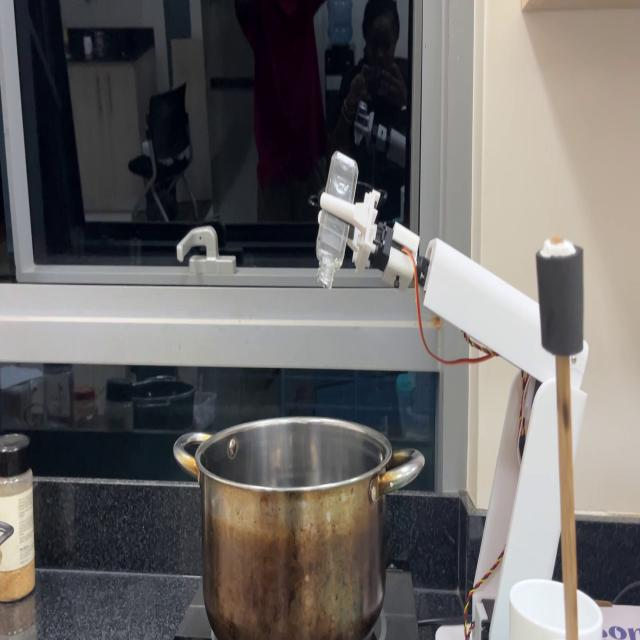cooking_pot: (179, 412, 422, 640)
spatula: (542, 275, 592, 640)
